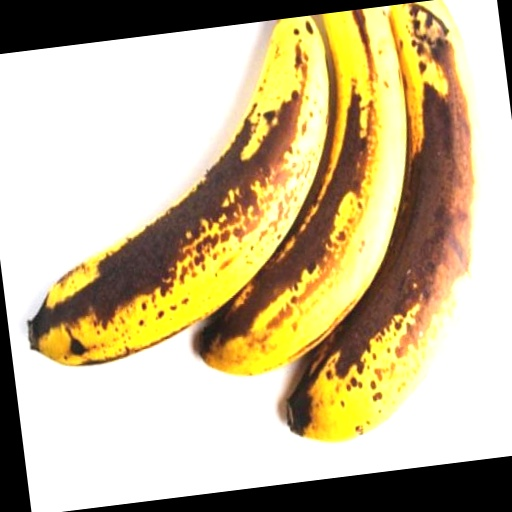fruit: (29, 16, 328, 365), (287, 0, 485, 441), (201, 7, 405, 374)
